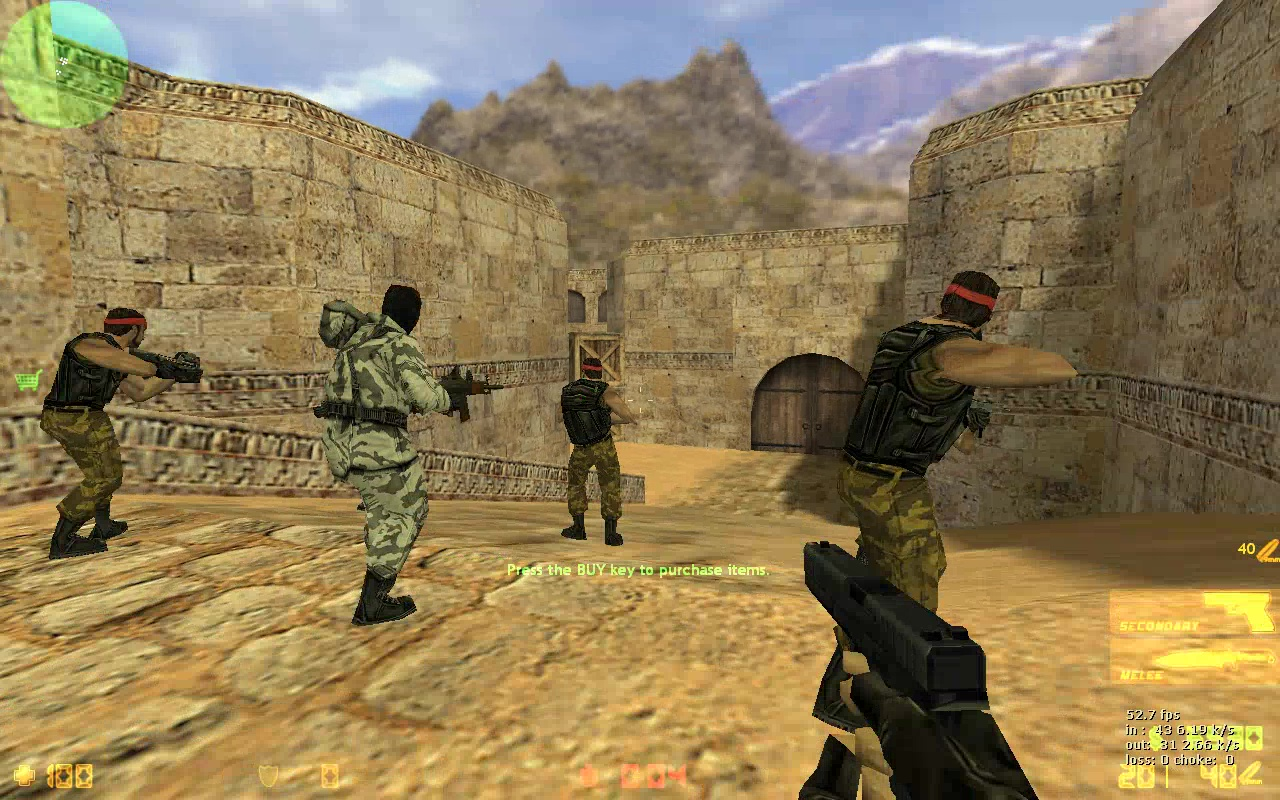terr1: (839, 267, 1078, 683), (26, 306, 203, 563), (555, 357, 636, 545)
terr2: (314, 281, 480, 626)
